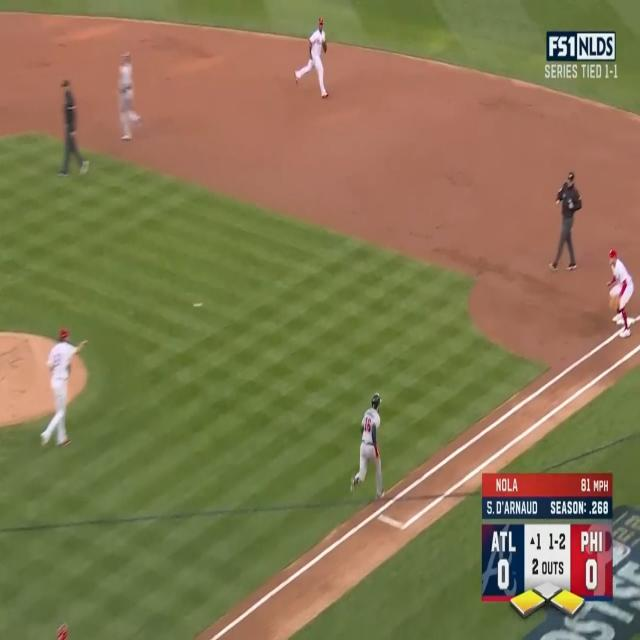baseball: (193, 302, 202, 308)
